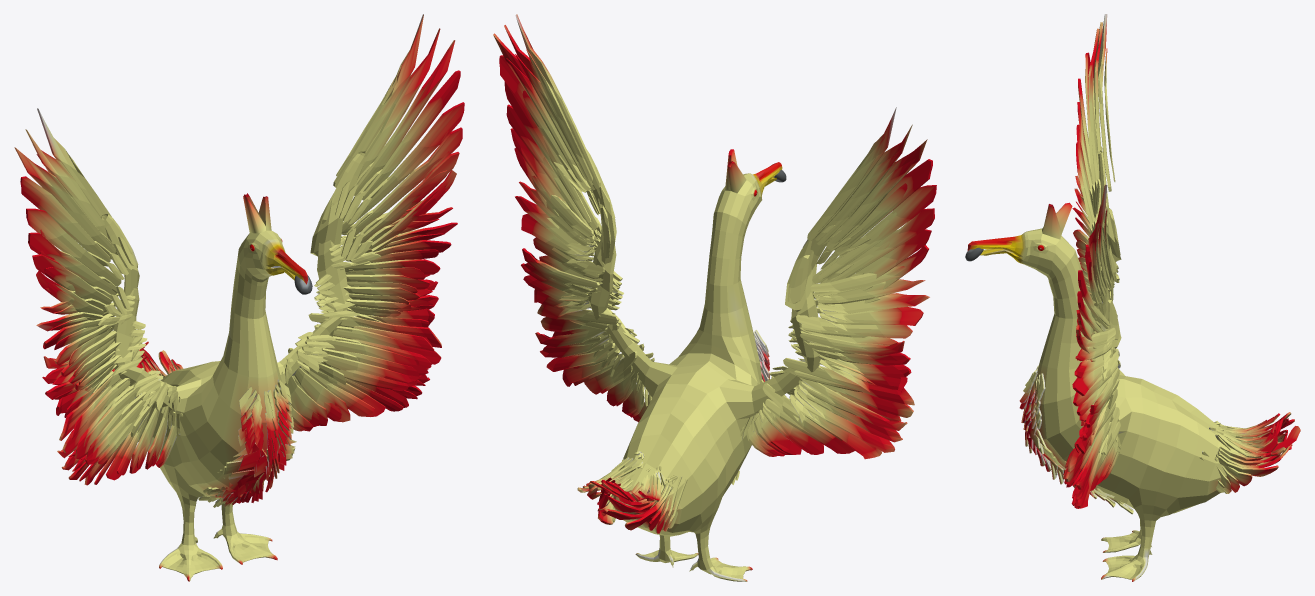
The model's file is birdUpBird.fbx.
3 views of the same model, side by side, from view 1: azimuth 30°, elevation 25°; view 2: azimuth 150°, elevation 25°; view 3: azimuth 270°, elevation 25° (orthographic). The views are drawn at different scales.
Parts seen in each view (by area): view 1: Circle.001_Circle.003; view 2: Circle.001_Circle.003; view 3: Circle.001_Circle.003.
Part boxes in pixels (x1,y1,x2,y2): Circle.001_Circle.003: (14, 14, 464, 581); Circle.001_Circle.003: (493, 14, 936, 581); Circle.001_Circle.003: (967, 14, 1300, 581).
Size of the model in its own units: 1188 by 1311 by 865.
